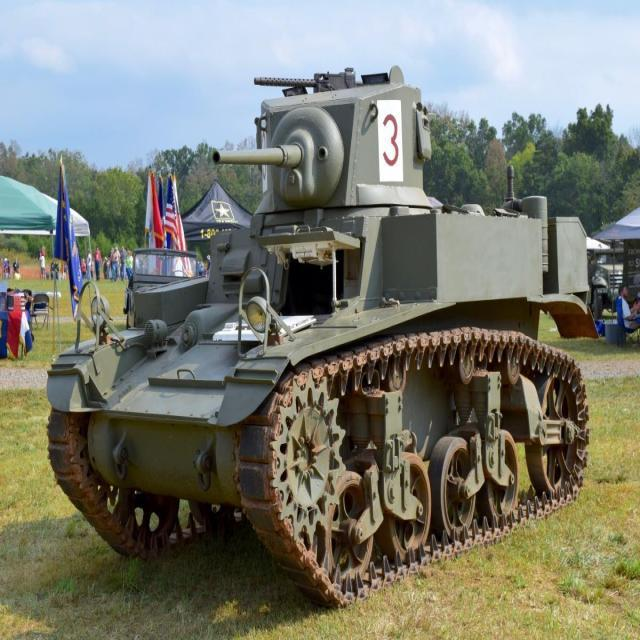MIL_MBT: (47, 65, 593, 616)
